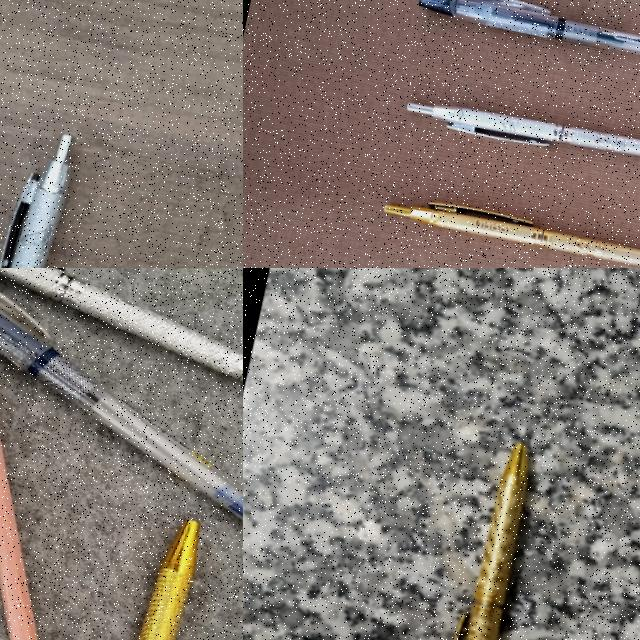pen: (0, 293, 243, 519), (417, 0, 640, 81)
pencil: (0, 353, 156, 640)
signature pen: (0, 268, 243, 395), (403, 87, 640, 186), (384, 191, 640, 268), (56, 506, 203, 640), (454, 443, 528, 639), (0, 134, 74, 267)
